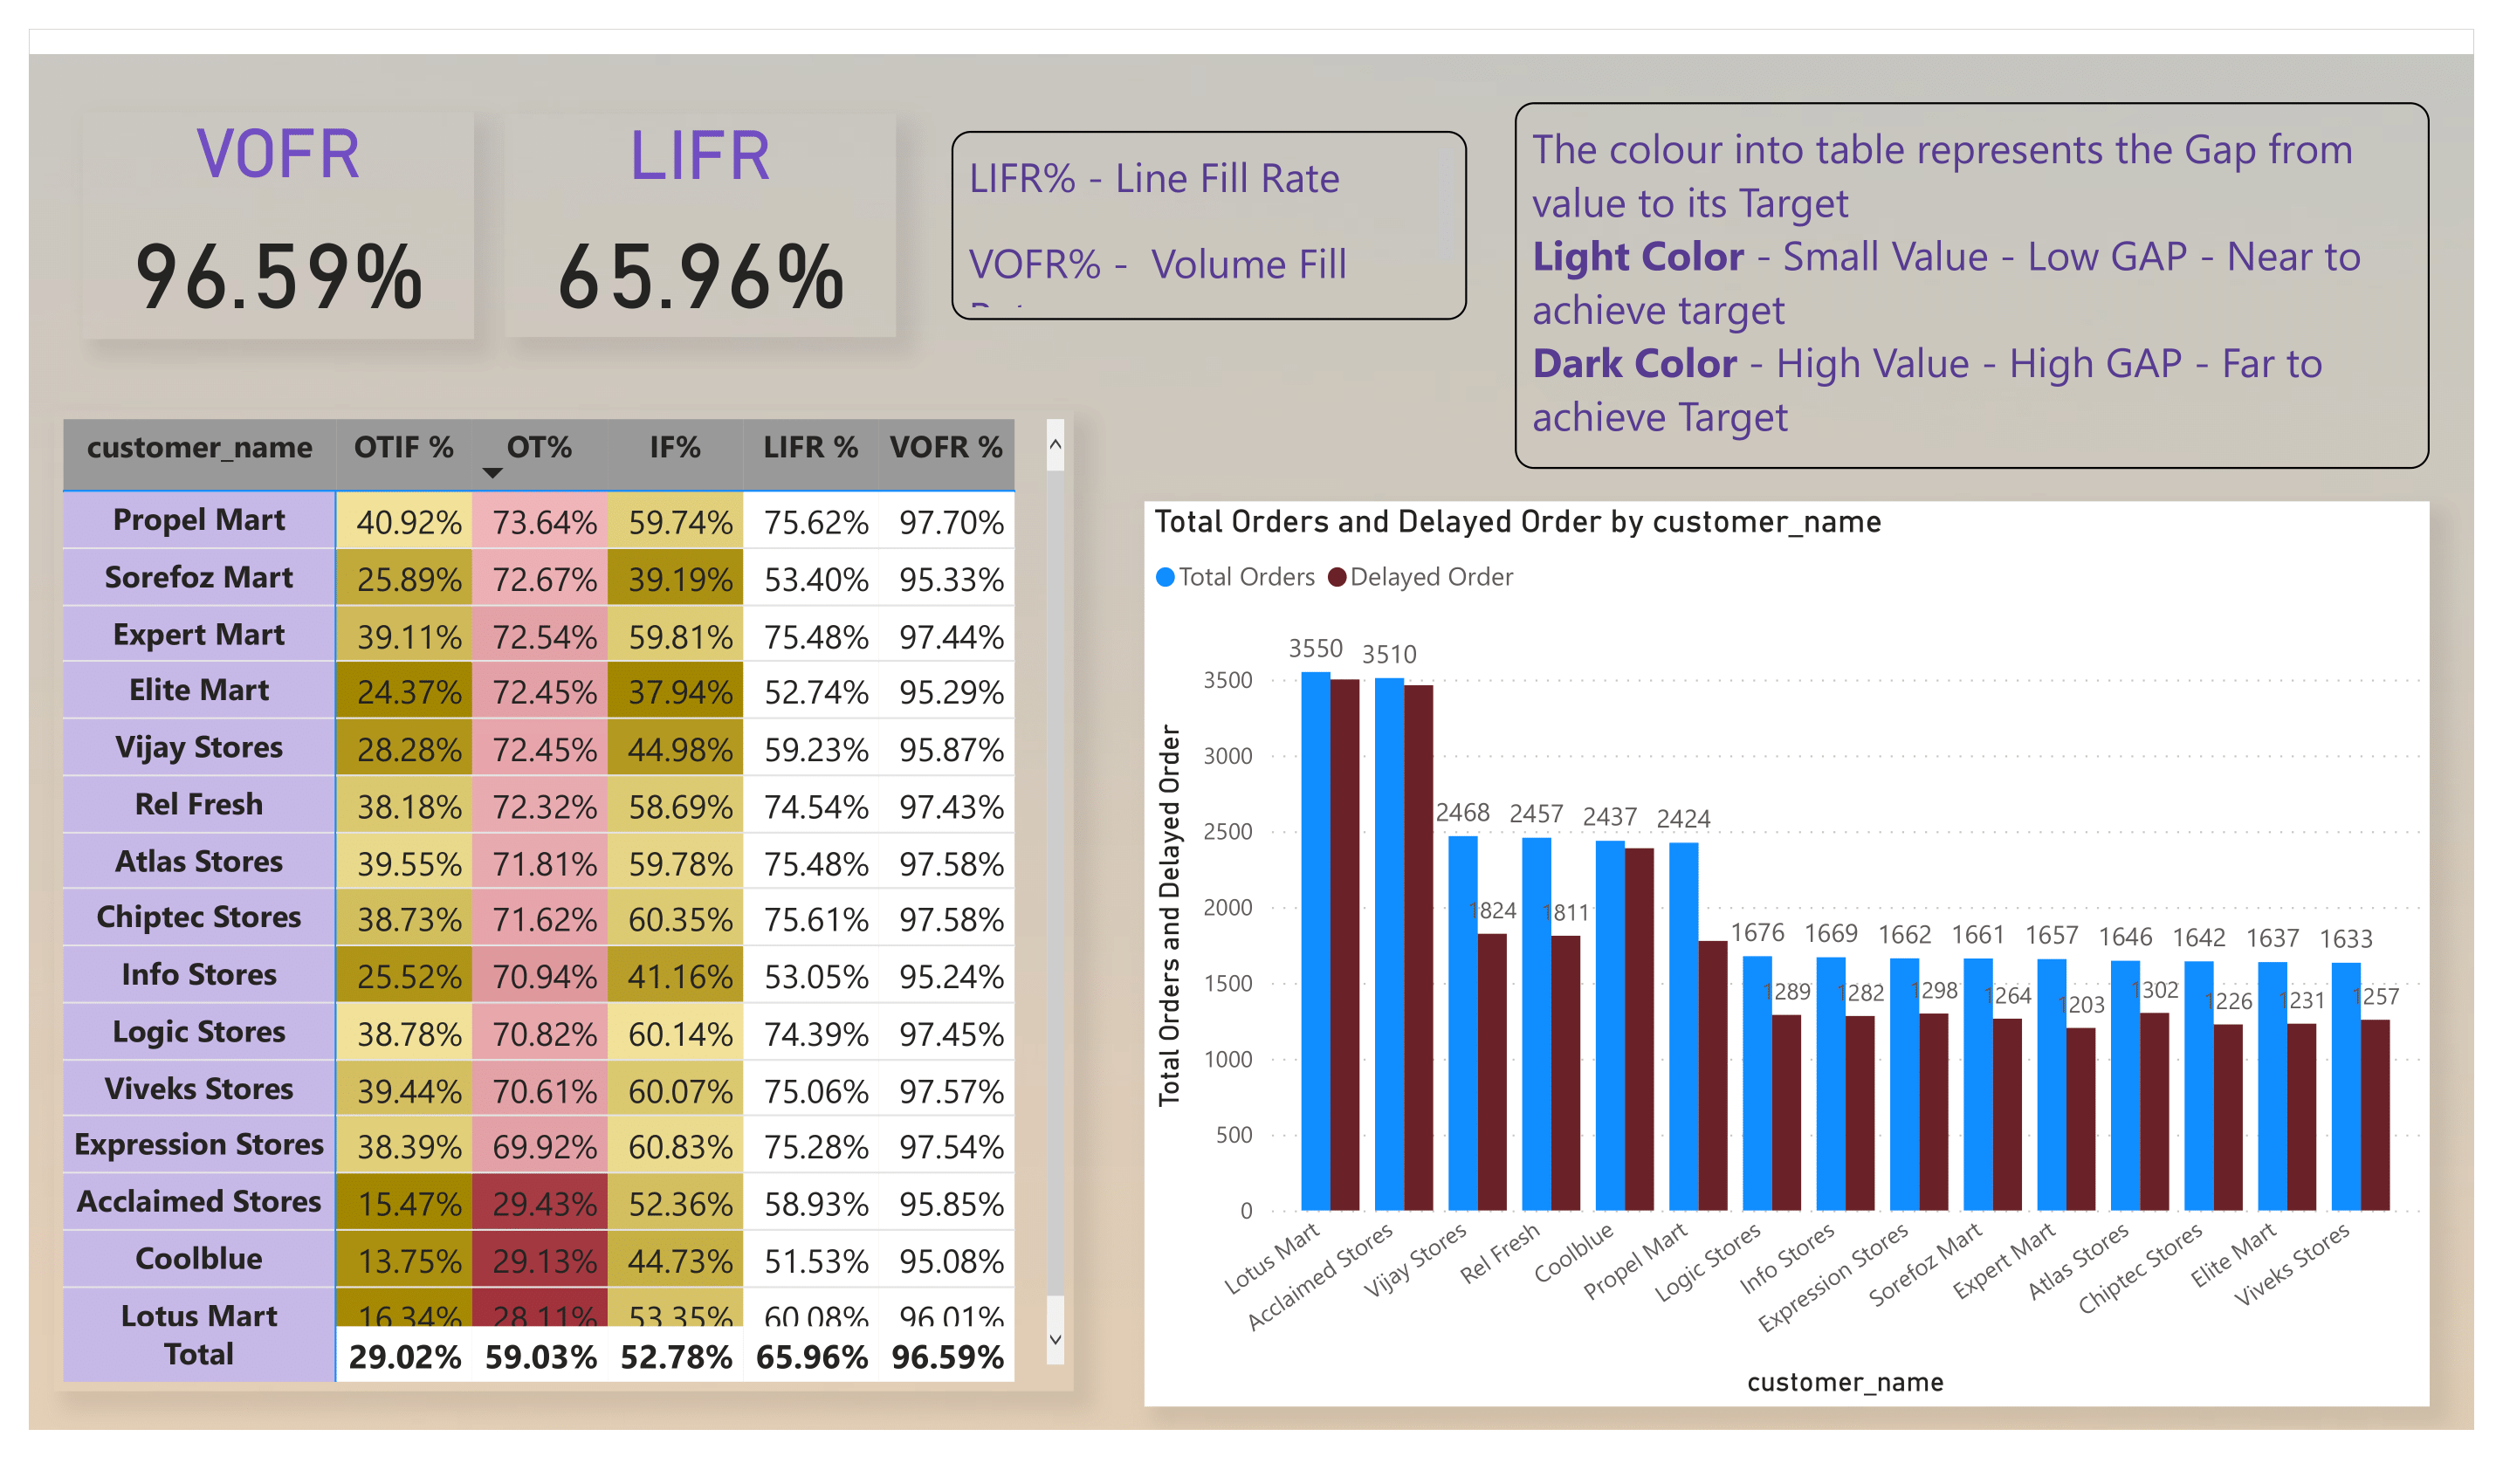

The page's visual inventory and layout, read from the dashboard file:
{"tool":"powerbi","page":{"name":"Customer Analysis","canvas":[1280,720],"ordinal":1},"visuals":[{"type":"card","fields":{"Values":["Key_Measures.LIFR %"]},"box":[239.2,27.5,169.1,108.6],"z":0},{"type":"card","fields":{"Values":["Key_Measures.VOFR %"]},"box":[20,0,220,163.3],"z":1000},{"type":"pivotTable","fields":{"Rows":["dim_customers.customer_name"],"Values":["Key_Measures.OTIF %","Key_Measures.OT%","Key_Measures.IF%","Key_Measures.LIFR %","Key_Measures.VOFR %"]},"box":[12.9,185.7,534.3,514.3],"z":2000},{"type":"textbox","box":[838.3,30,381.7,210],"z":3000},{"type":"textbox","box":[546.7,36.7,291.7,163.3],"z":4000},{"type":"clusteredColumnChart","fields":{"Category":["dim_customers.customer_name"],"Y":["Key_Measures.Total Orders","Key_Measures.Delayed Order(In Full)"]},"box":[640,220,615.7,467.1],"z":5000}]}

Visuals, with their boxes on the page's 1280x720 design canvas (x1, y1, x2, y2). These are canvas units, not pixel positions in the 2503x1484 screenshot, which may show the page scaled, cropped or inside an application window:
card - Key_Measures.LIFR %: <box>239,28,408,136</box>
card - Key_Measures.VOFR %: <box>20,0,240,163</box>
pivotTable - dim_customers.customer_name x Key_Measures.OTIF %: <box>13,186,547,700</box>
textbox: <box>838,30,1220,240</box>
textbox: <box>547,37,838,200</box>
clusteredColumnChart - dim_customers.customer_name x Key_Measures.Total Orders: <box>640,220,1256,687</box>
